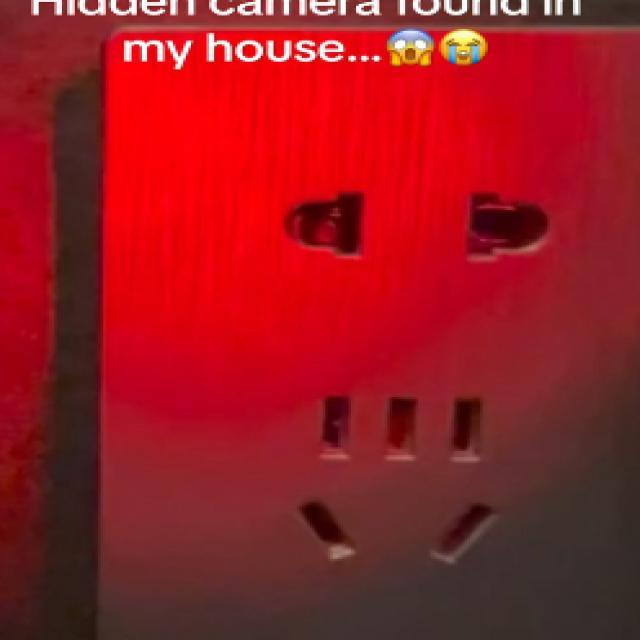hidden camera: (300, 208, 349, 249)
